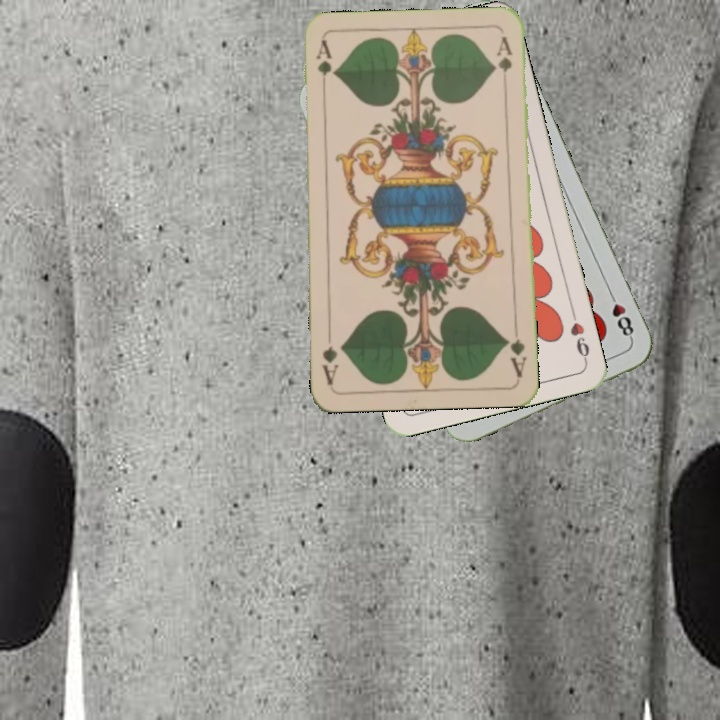GA: (502, 321, 529, 380), (313, 37, 334, 96)
H8: (604, 287, 637, 343)
H9: (566, 306, 592, 365)
